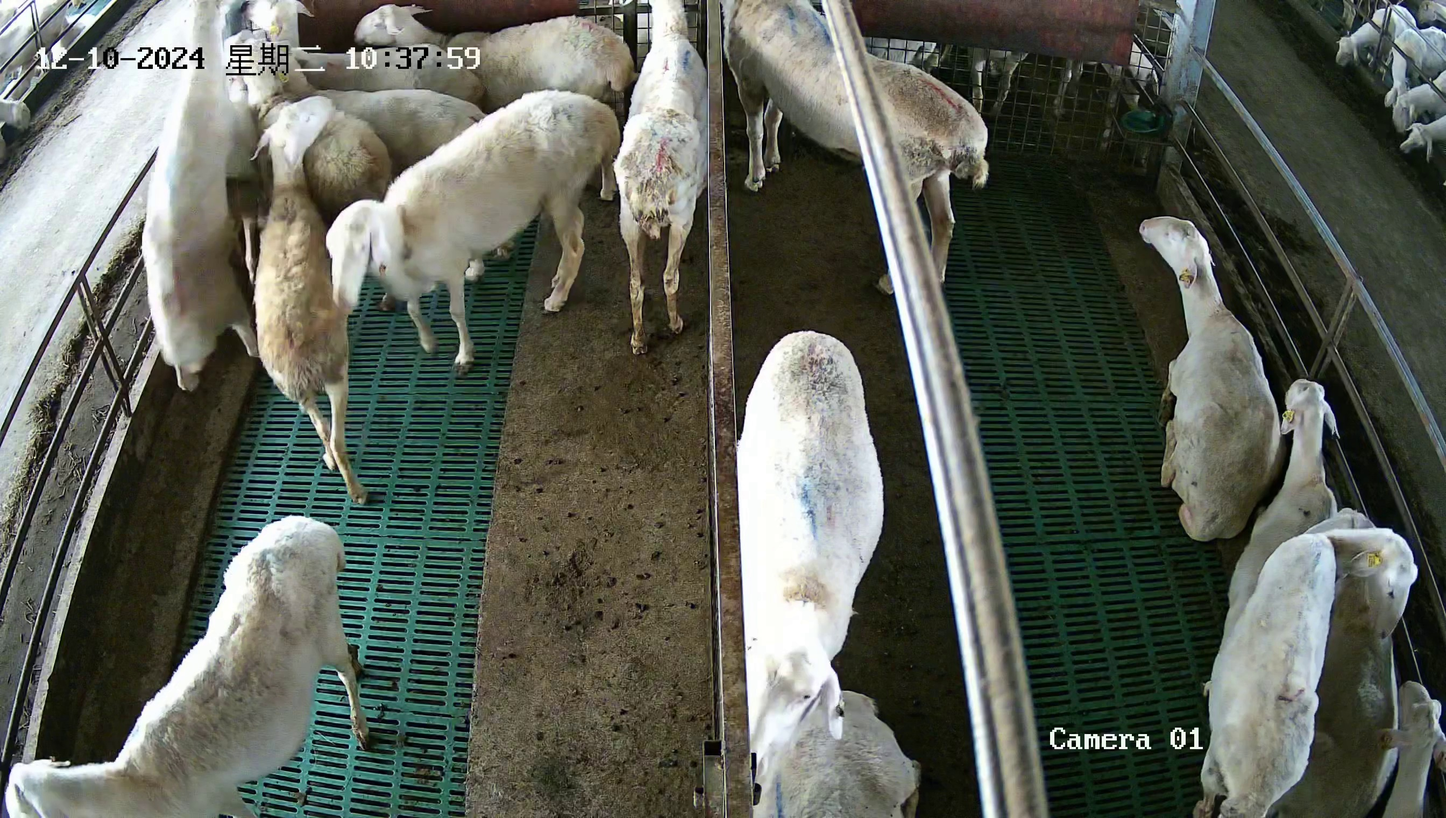Smounting: (140, 1, 260, 396)
mounted: (216, 32, 259, 286)
